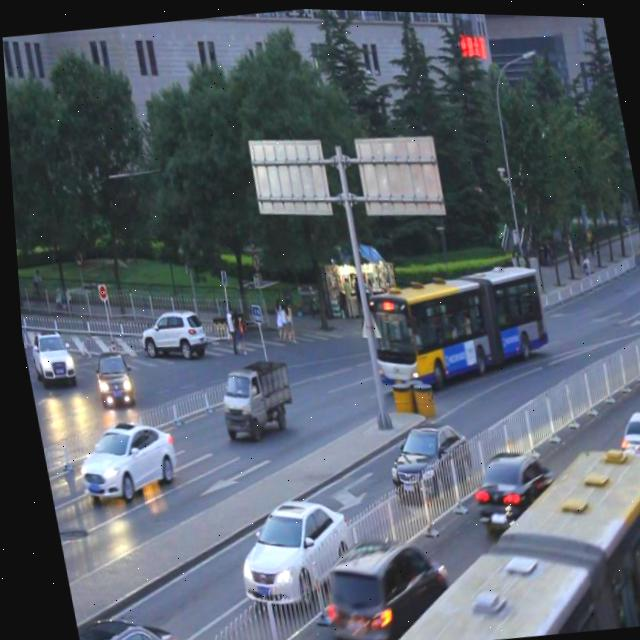bus: (209, 355, 292, 441)
car: (309, 525, 452, 640), (222, 491, 354, 610), (64, 410, 177, 504), (375, 415, 469, 499), (461, 442, 546, 525), (64, 601, 172, 640), (136, 305, 201, 361), (24, 327, 72, 385), (87, 349, 130, 406), (610, 401, 640, 475)
van: (328, 421, 640, 640), (356, 256, 551, 392)
